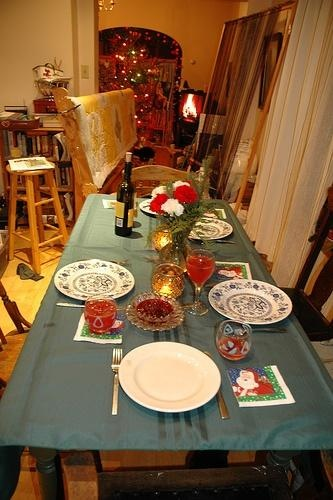bottle: (114, 151, 136, 238)
chair: (281, 190, 333, 344)
diningtable: (5, 194, 333, 500)
